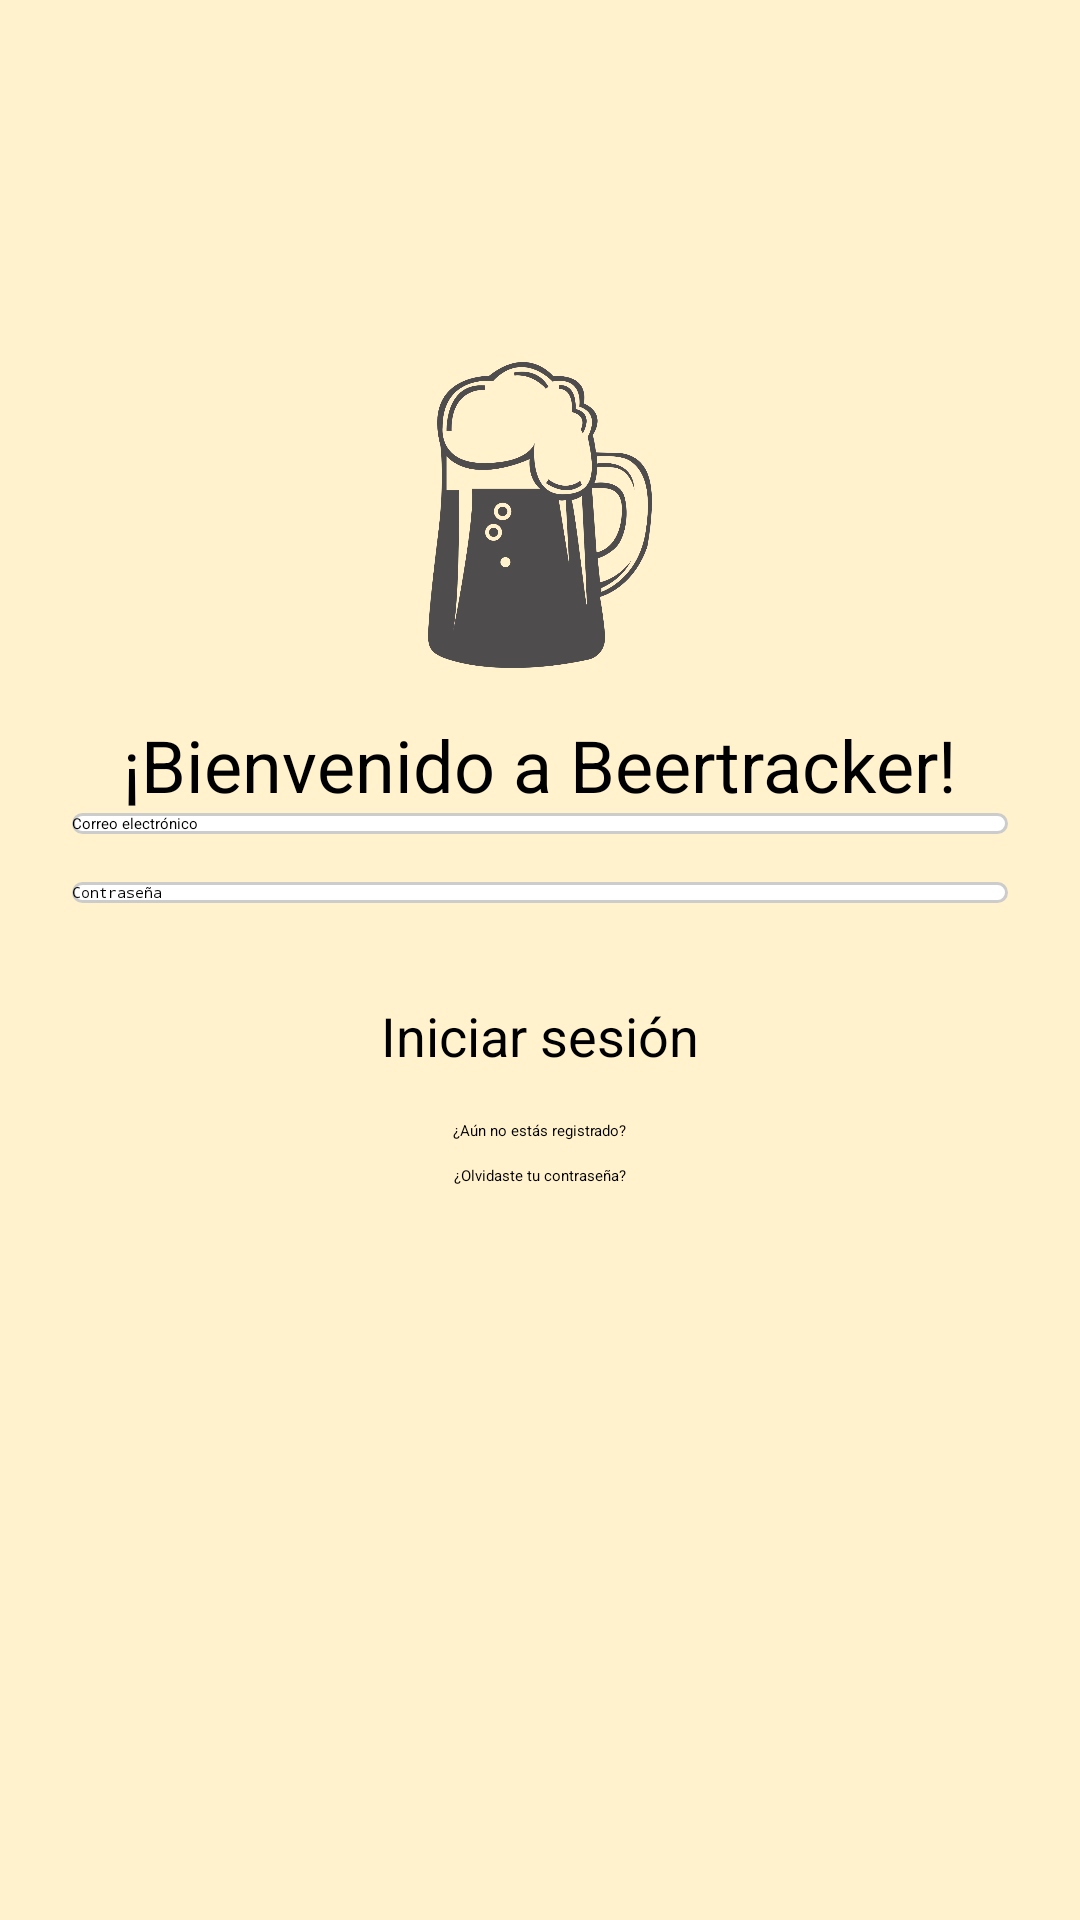

Screen size 1080px x 1920px. Icon name, then its center in pixels as [x,y]:
beer bw: [540,515]
